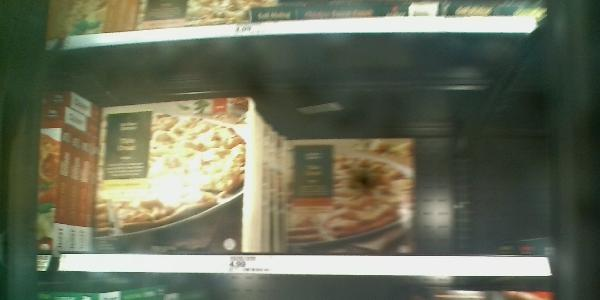pizza: (102, 109, 253, 248), (284, 140, 412, 254)
